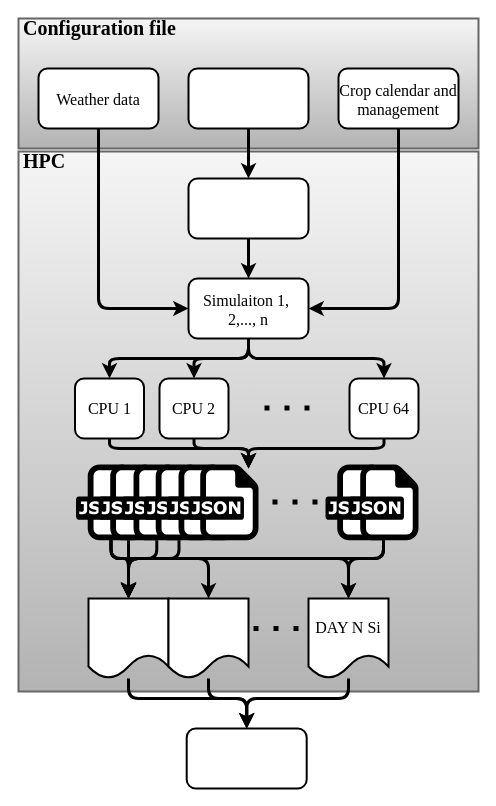
This 496x806 diagram has some shape labels left out. Here are the shapes that lost their labels. From the top down, the centre of each, then its label:
At (x=248, y=98): "Parameter names and ranges".
At (x=248, y=208): "Parameter sets".
At (x=128, y=638): "DAY 1 Si".
At (x=208, y=638): "DAY 2 Si".
At (x=246, y=758): "Report".
